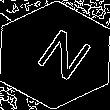N_SW: (21, 23, 89, 87)
